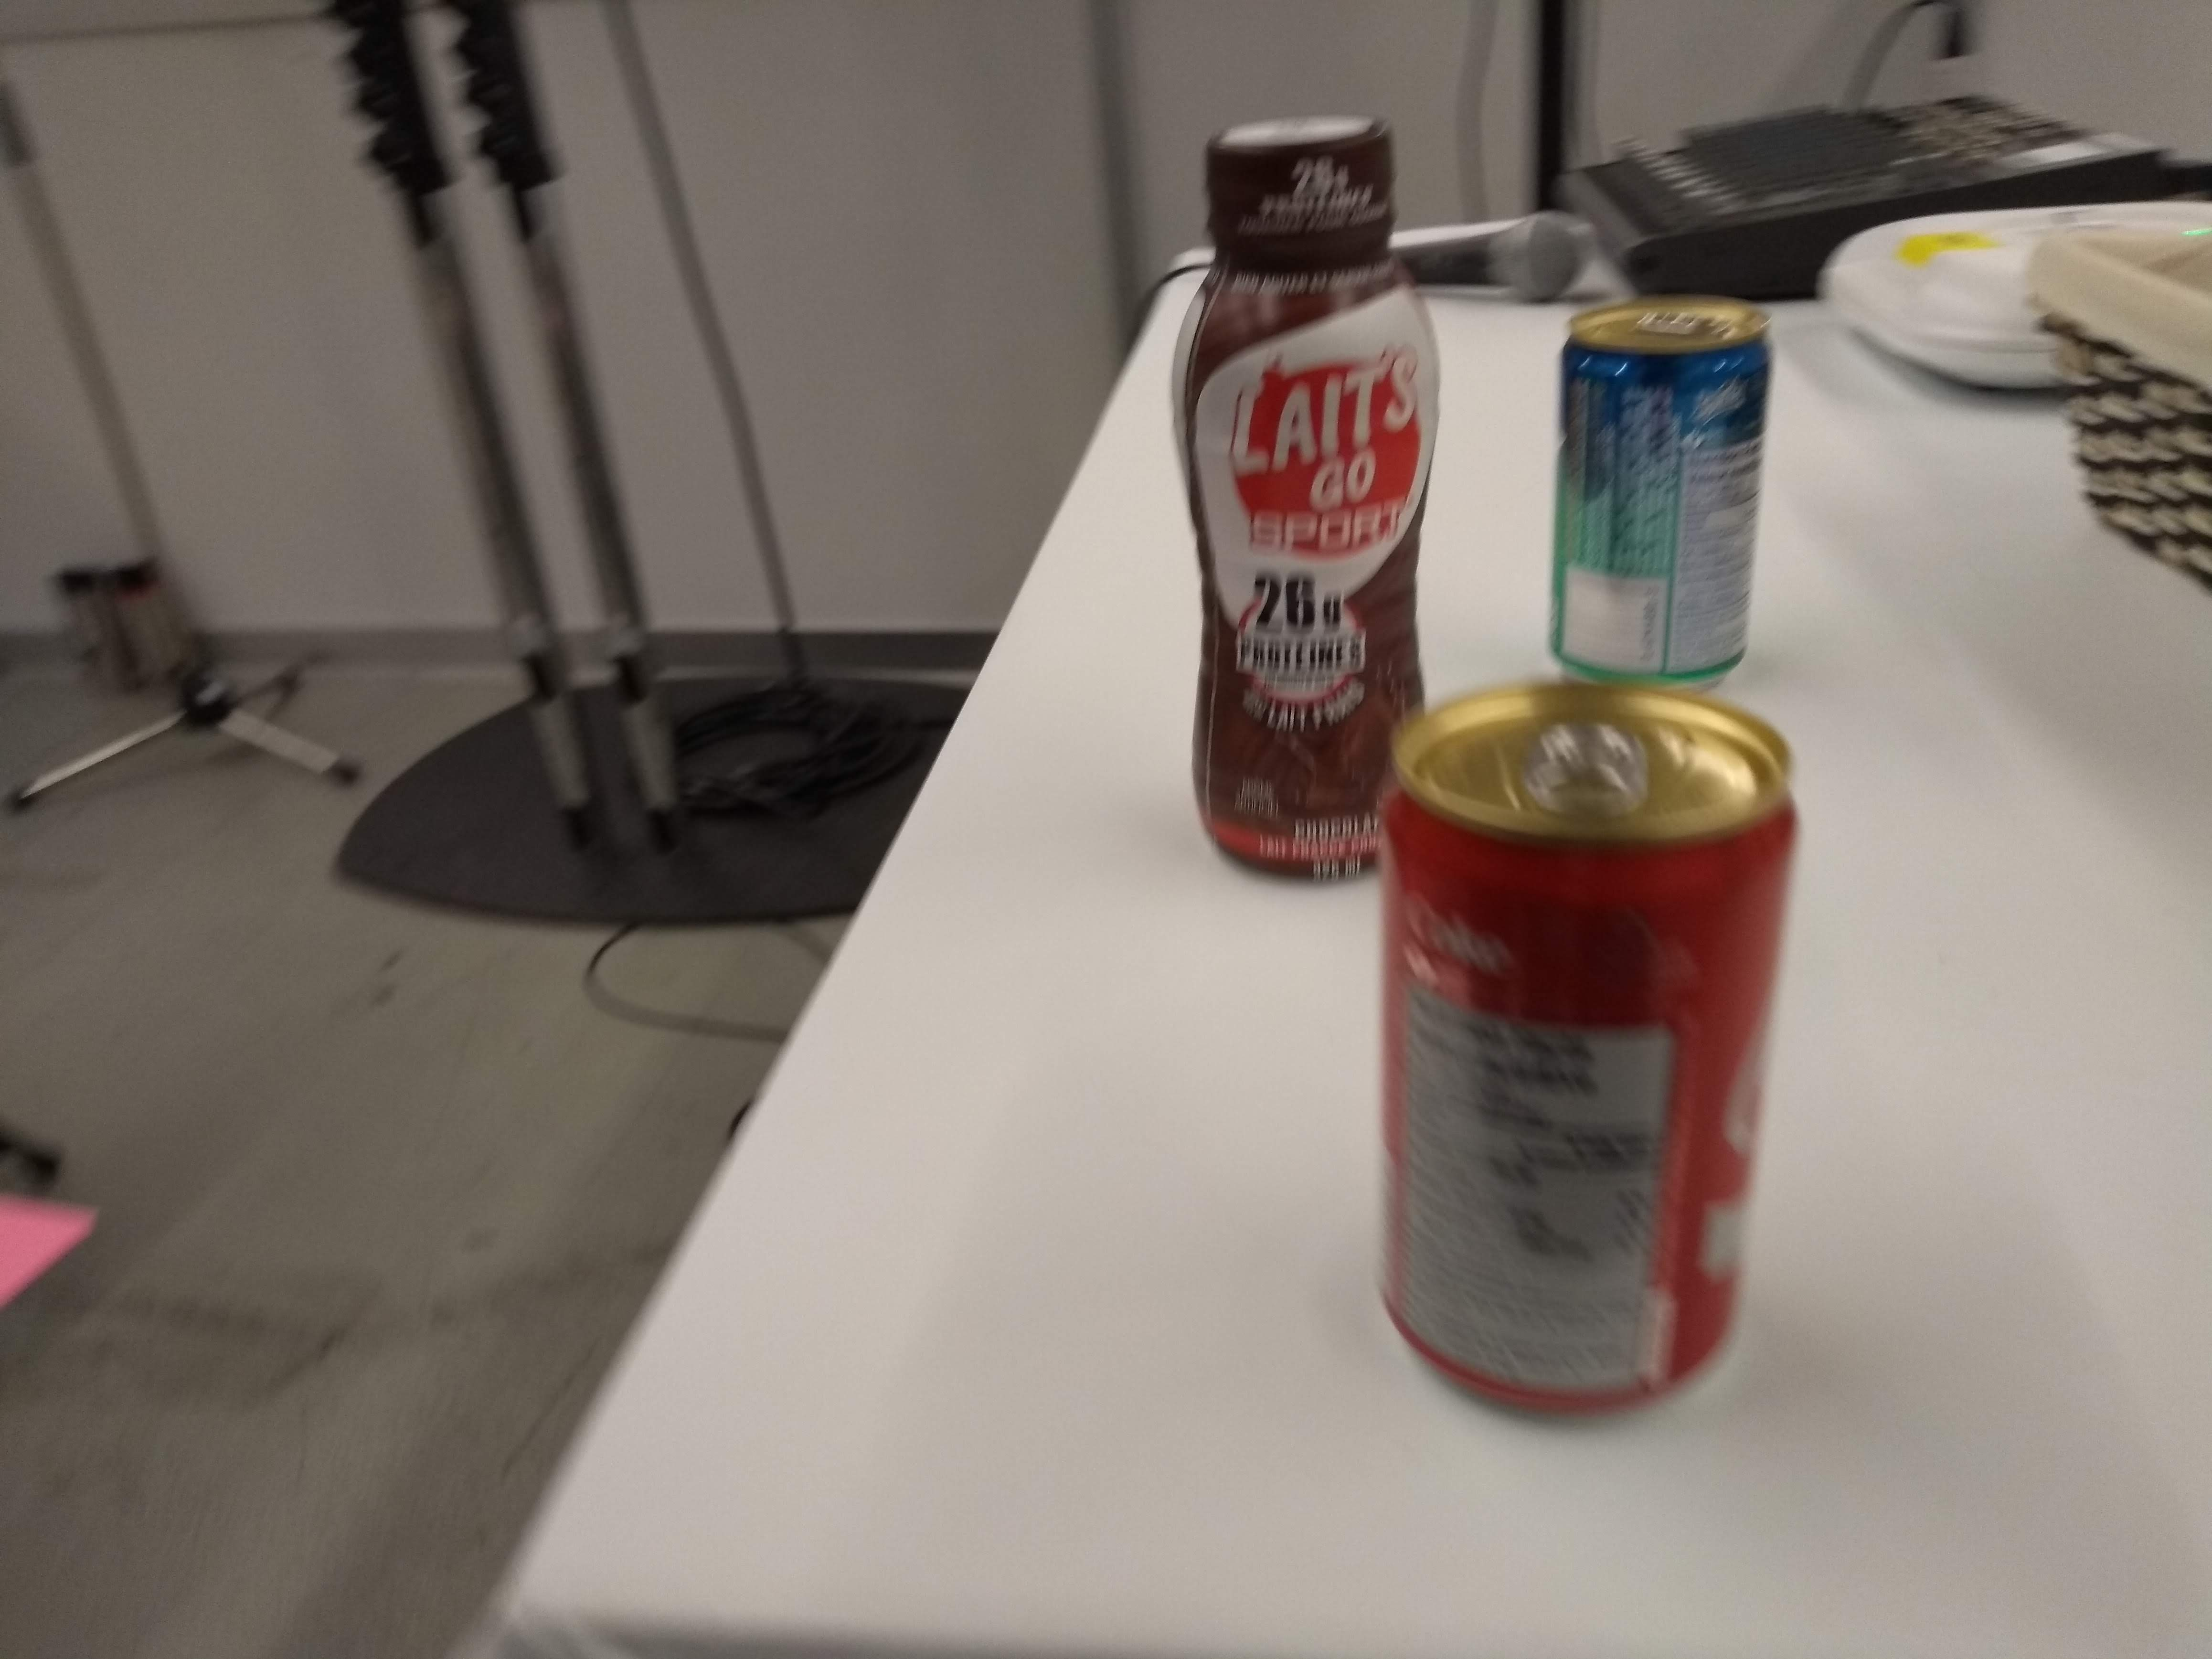chocolate_drink: (1160, 108, 1454, 896)
coke: (1352, 673, 1815, 1420)
sprite: (1536, 291, 1775, 695)
